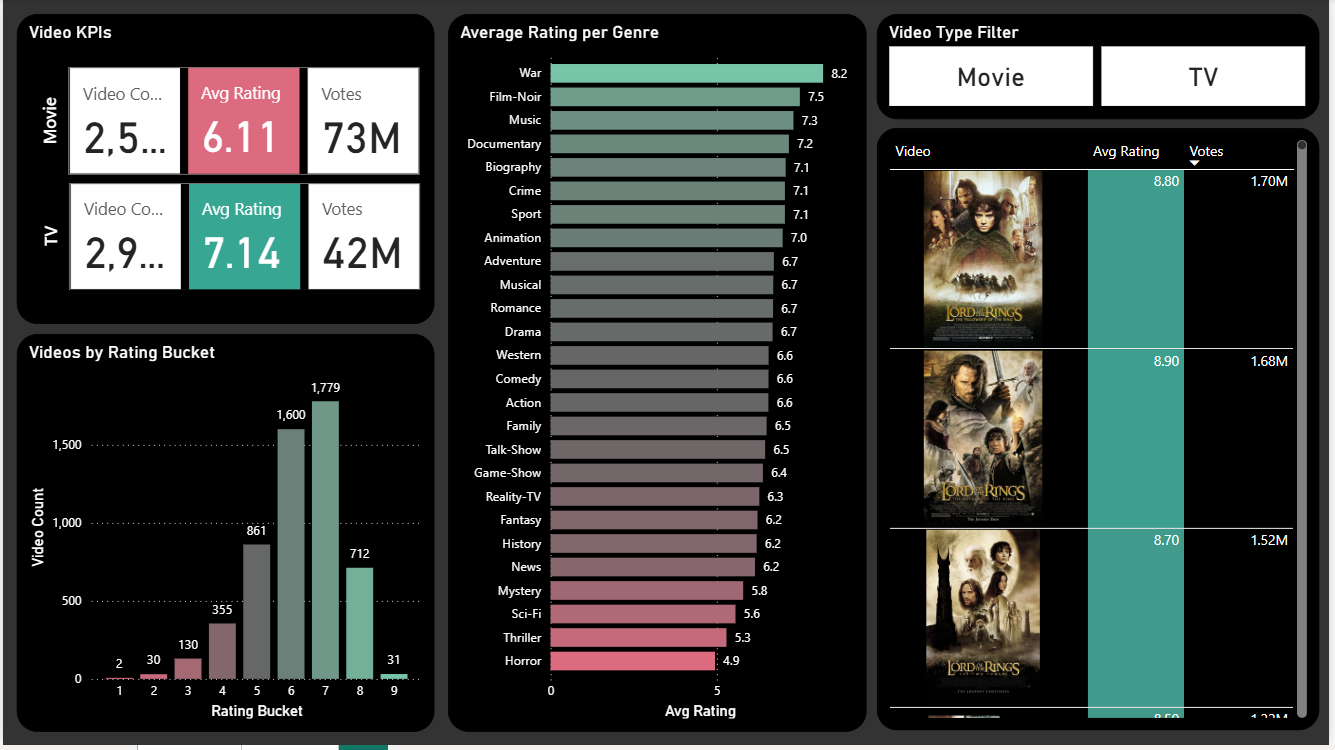

Layout of this report page (visuals, bound fields, positions):
{"tool":"powerbi","page":{"name":"Report","canvas":[1280,720],"ordinal":1},"visuals":[{"type":"columnChart","title":"Videos by Rating Bucket","fields":{"Category":["netflix_data.rating_bucket"],"Y":["netflix_data.Video Count"]},"box":[13.3,323.3,403,383.6],"z":0},{"type":"cardVisual","title":"Video KPIs","fields":{"Rows":["type_group.type_groupd"],"Data":["netflix_data.Video Count","netflix_data.Avg Rating","netflix_data.Votes"]},"box":[13.3,14.5,403,299.2],"z":1000},{"type":"clusteredBarChart","title":"Average Rating per Genre","fields":{"Category":["netflix_data.genre"],"Y":["netflix_data.Avg Rating"]},"box":[429.5,14.5,404.2,692.5],"z":2000},{"type":"advancedSlicerVisual","title":"Video Type Filter","fields":{"Values":["type_group.type_groupd"]},"box":[843.3,14.5,427.1,101.3],"z":3000},{"type":"tableEx","fields":{"Values":["netflix_data.image_url","netflix_data.Avg Rating","netflix_data.Votes"]},"box":[843.3,124.3,427.1,581.5],"z":4000}]}

Visuals, with their boxes in screenshot pixels (x1, y1, x2, y2), scaled from the page's 1280x720 canvas onto the 1335x750 screenshot:
"Videos by Rating Bucket" columnChart: box=[14, 337, 434, 736]
"Video KPIs" cardVisual: box=[14, 15, 434, 327]
"Average Rating per Genre" clusteredBarChart: box=[448, 15, 870, 736]
"Video Type Filter" advancedSlicerVisual: box=[880, 15, 1325, 121]
tableEx - netflix_data.image_url x netflix_data.Avg Rating: box=[880, 129, 1325, 735]
